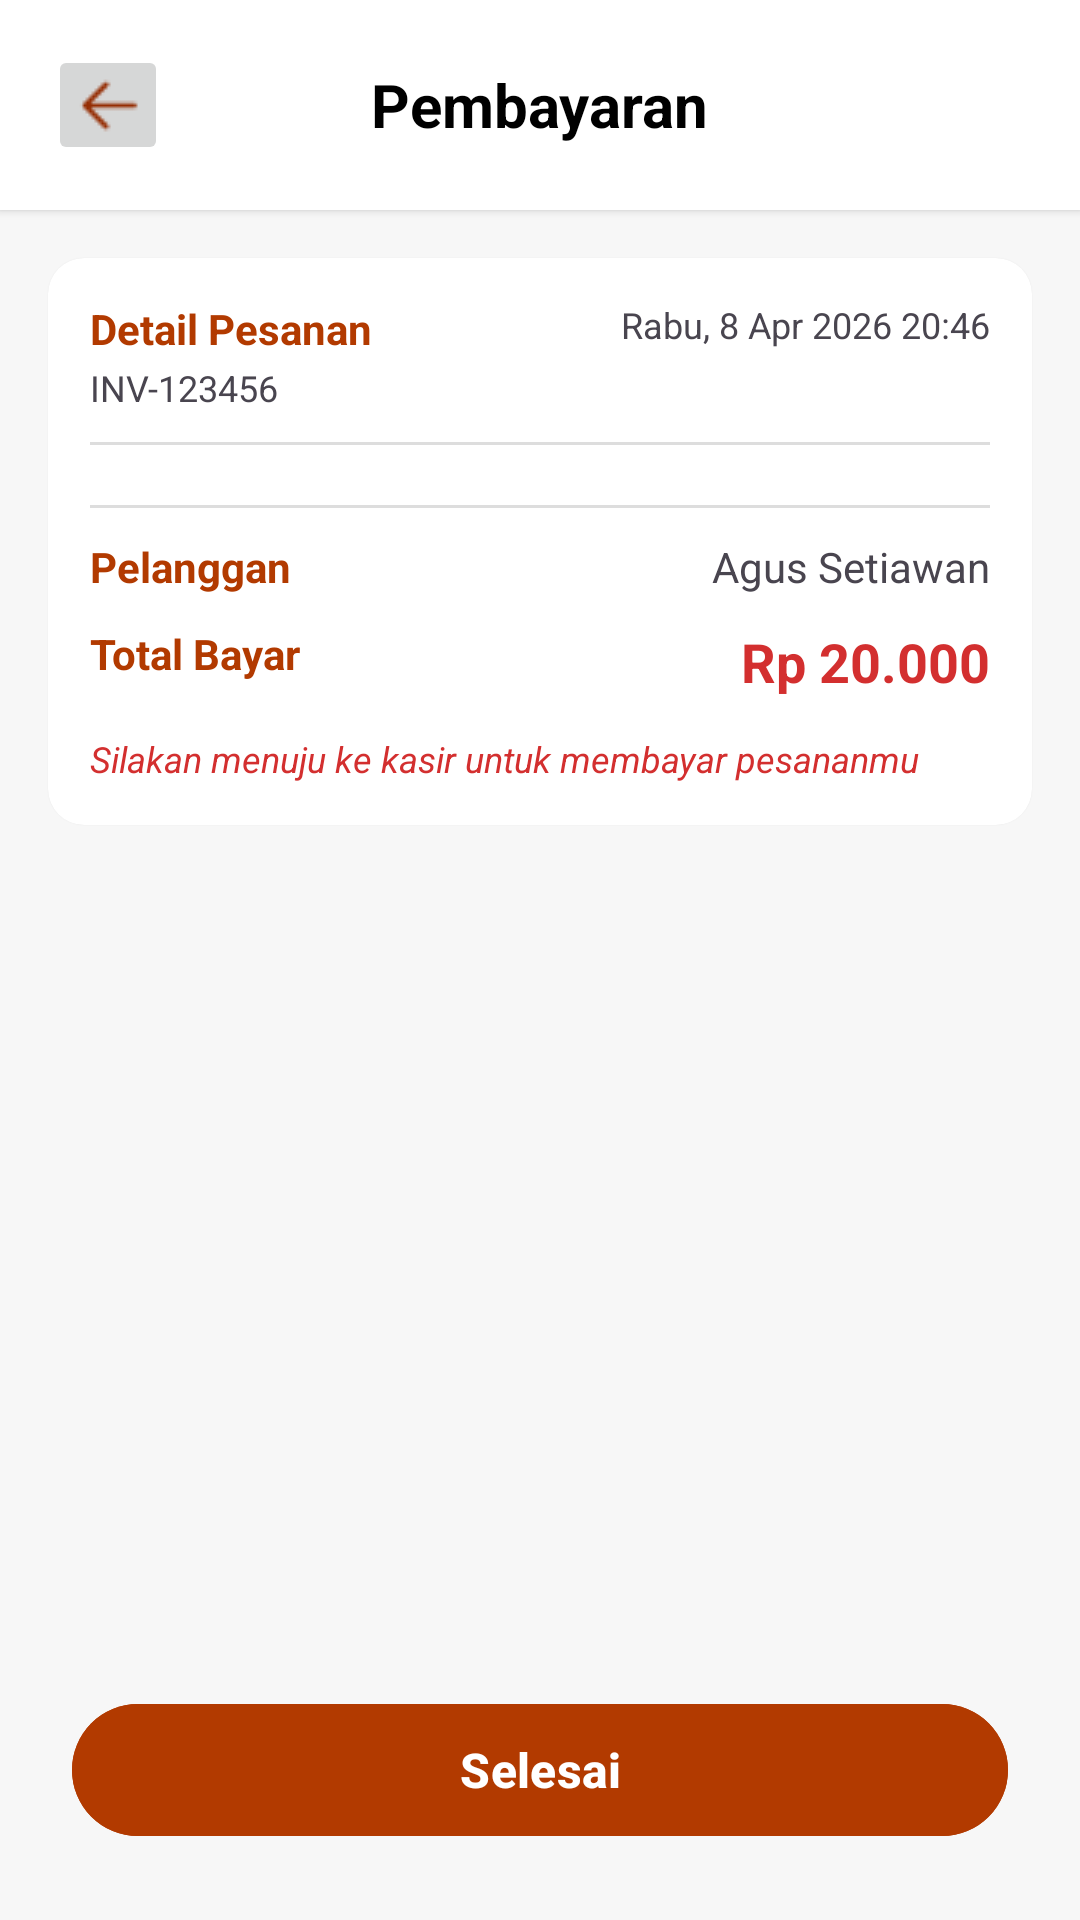

Screen size 1080*1920. Icon name, then its box in pixels as (x1, y1, x2, y2):
iconback: (60, 63, 156, 147)
